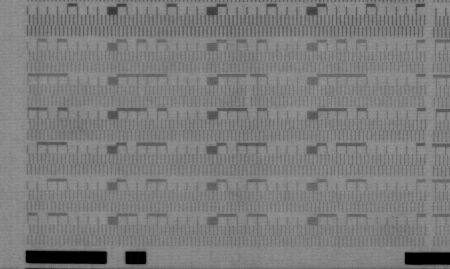Broken hole: (242, 84, 255, 106), (136, 85, 148, 96)
